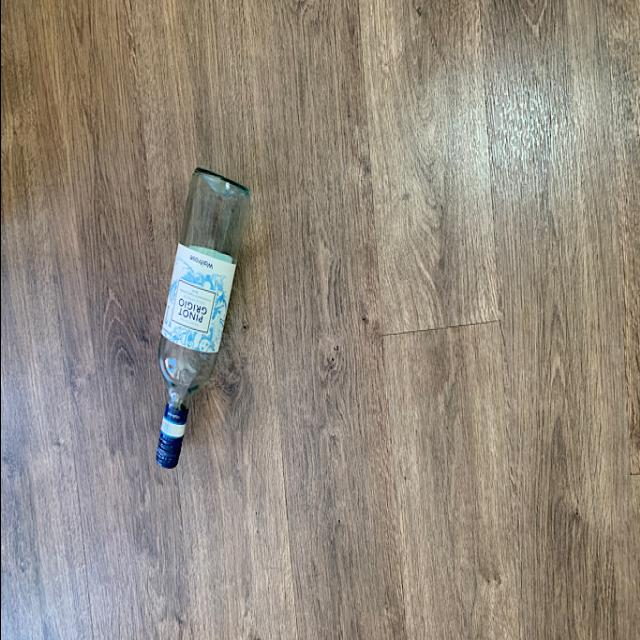Glass Bottle: (140, 163, 254, 488)
